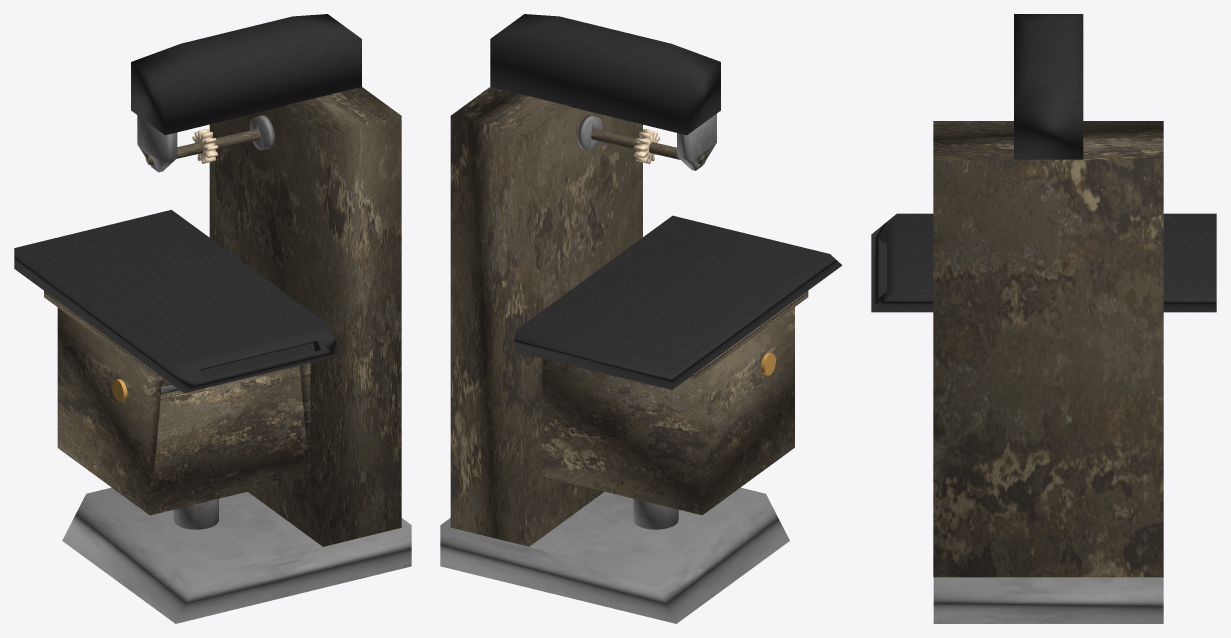
Rendered from machine.fbx.
3 renders of one model, left to right at view 1: azimuth 30°, elevation 25°; view 2: azimuth 150°, elevation 25°; view 3: azimuth 270°, elevation 25°, orthographic.
Parts seen in each view (by area): view 1: Machine Main Top.001, Machine Table, Machine Main, Machine Base, Arm, Brace, Machine Hoist, Shaft, Machine Main Top, Shaft Holder, Gear; view 2: Machine Main Top.001, Machine Main, Machine Table, Machine Base, Arm, Brace, Machine Hoist, Shaft, Machine Main Top, Shaft Holder, Gear; view 3: Machine Main Top.001, Machine Table, Machine Base, Arm.
Boxes of the visible parts, x1=… form: Machine Main Top.001: x1=209, y1=87, x2=401, y2=546; Machine Table: x1=14, y1=210, x2=341, y2=393; Machine Main: x1=57, y1=307, x2=310, y2=515; Machine Base: x1=62, y1=487, x2=411, y2=623; Arm: x1=131, y1=14, x2=361, y2=135; Brace: x1=137, y1=115, x2=177, y2=172; Machine Hoist: x1=173, y1=499, x2=218, y2=529; Shaft: x1=145, y1=129, x2=260, y2=164; Machine Main Top: x1=44, y1=291, x2=163, y2=380; Shaft Holder: x1=249, y1=115, x2=274, y2=150; Gear: x1=192, y1=129, x2=218, y2=163; Machine Main Top.001: x1=450, y1=87, x2=642, y2=546; Machine Main: x1=542, y1=307, x2=794, y2=515; Machine Table: x1=514, y1=215, x2=842, y2=389; Machine Base: x1=440, y1=487, x2=789, y2=623; Arm: x1=490, y1=14, x2=720, y2=135; Brace: x1=677, y1=114, x2=716, y2=170; Machine Hoist: x1=633, y1=498, x2=678, y2=529; Shaft: x1=591, y1=129, x2=706, y2=164; Machine Main Top: x1=688, y1=291, x2=808, y2=380; Shaft Holder: x1=577, y1=115, x2=602, y2=150; Gear: x1=634, y1=129, x2=659, y2=163; Machine Main Top.001: x1=933, y1=121, x2=1163, y2=577; Machine Table: x1=871, y1=213, x2=1216, y2=312; Machine Base: x1=933, y1=577, x2=1163, y2=623; Arm: x1=1014, y1=14, x2=1083, y2=159.
Bounding box in the file's own units: 262 × 499 × 300.
9 materials, 8 textured.
